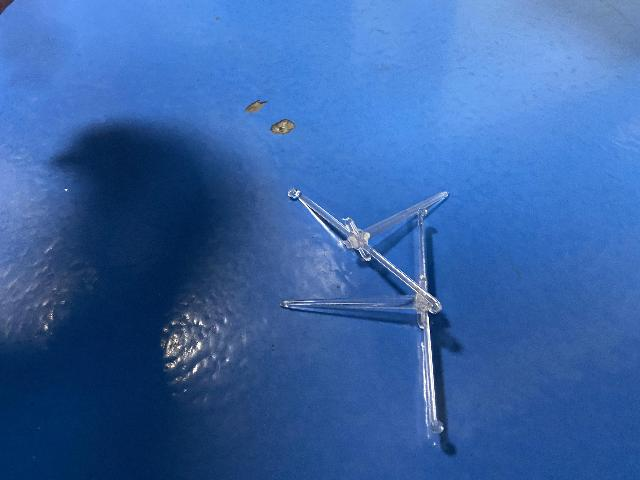Plastik: (279, 181, 456, 451)
